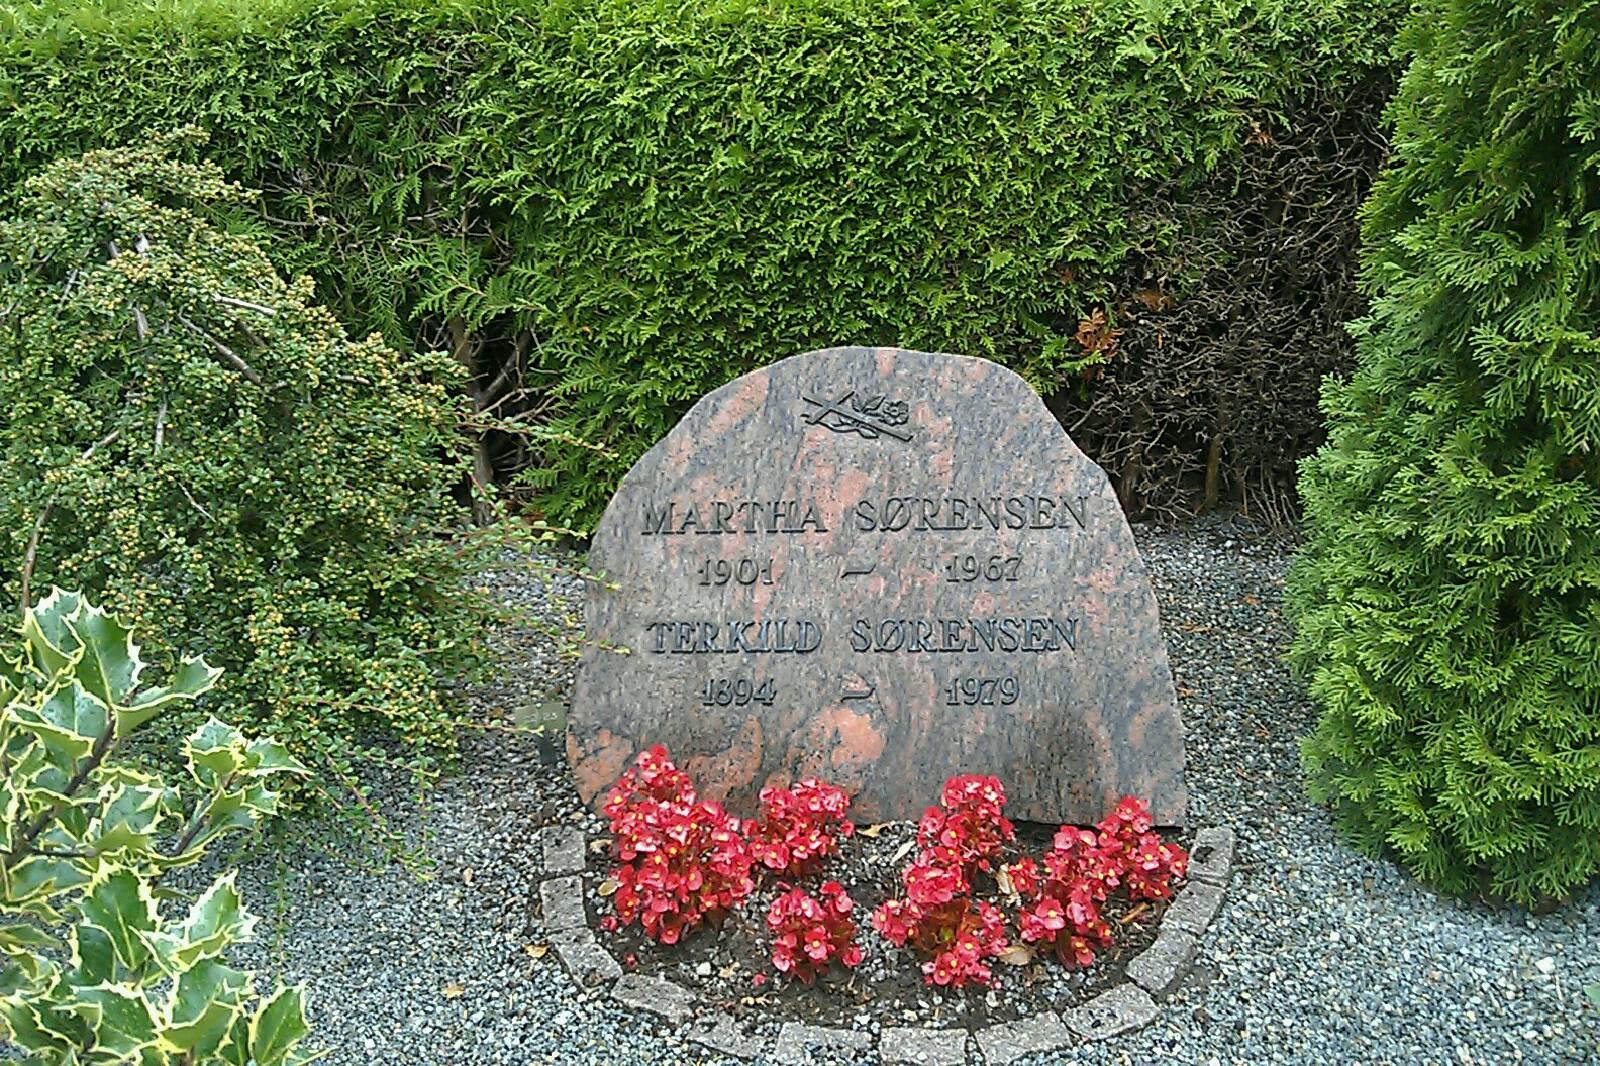upright: (560, 346, 1207, 838)
